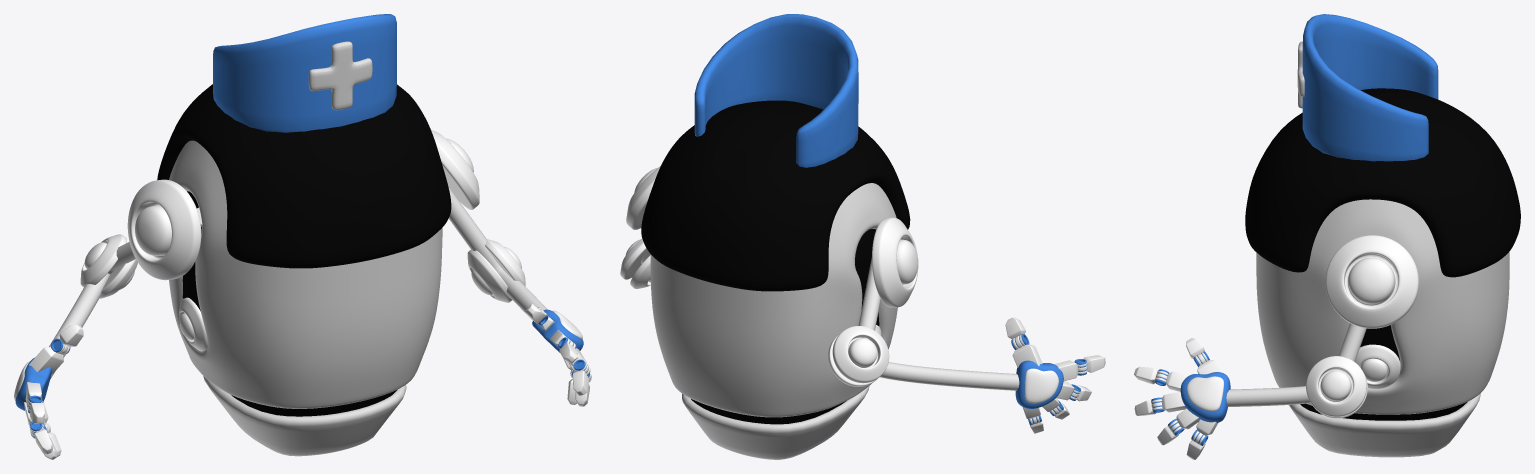
Rendered from medical-robot-3d-animated-icon-402314705219.glb.
3 views of the same model, side by side, from view 1: azimuth 30°, elevation 25°; view 2: azimuth 150°, elevation 25°; view 3: azimuth 270°, elevation 25° (orthographic). The views are drawn at different scales.
Visible parts, largest first — view 1: Cube.168, Cube.167, Cube.170, Cube.169, Cylinder.284, Plane.032, Cylinder.002, Cylinder.285, NurbsPath.001, Cylinder.001, Cube.166, NurbsPath.072 (+4 smaller); view 2: Cube.167, Cube.168, Cube.170, Cube.169, Cylinder.284, NurbsPath.072, Cylinder.285, Cube.166, Cylinder.002, Cube.210, Cylinder.001, Cube.209; view 3: Cube.168, Cube.167, Cube.170, Cylinder.001, Cube.169, Cylinder.002, NurbsPath.001, Cylinder.208, Cube.166, Cube.172, Cube.171.
Part boxes in pixels (<box>): Cube.168: <box>169,140,442,408</box>; Cube.167: <box>157,84,451,268</box>; Cube.170: <box>213,14,396,132</box>; Cube.169: <box>203,376,406,456</box>; Cylinder.284: <box>127,179,201,280</box>; Plane.032: <box>308,41,372,110</box>; Cylinder.002: <box>467,239,525,302</box>; Cylinder.285: <box>80,234,137,298</box>; NurbsPath.001: <box>448,186,547,320</box>; Cylinder.001: <box>431,130,479,209</box>; Cube.166: <box>182,191,396,416</box>; NurbsPath.072: <box>49,207,202,378</box>; Cube.167: <box>641,100,910,291</box>; Cube.168: <box>650,183,897,417</box>; Cube.170: <box>694,14,858,167</box>; Cube.169: <box>682,386,869,459</box>; Cylinder.284: <box>872,217,918,307</box>; NurbsPath.072: <box>858,257,1019,390</box>; Cylinder.285: <box>828,326,889,386</box>; Cube.166: <box>691,228,879,424</box>; Cylinder.002: <box>620,239,650,288</box>; Cube.210: <box>1024,368,1058,403</box>; Cylinder.001: <box>626,166,660,229</box>; Cube.209: <box>1015,360,1063,408</box>; Cube.168: <box>1256,199,1509,414</box>; Cube.167: <box>1245,88,1520,277</box>; Cube.170: <box>1302,14,1438,161</box>; Cylinder.001: <box>1325,235,1418,328</box>; Cube.169: <box>1289,393,1480,457</box>; Cylinder.002: <box>1306,356,1367,418</box>; NurbsPath.001: <box>1226,323,1366,406</box>; Cylinder.208: <box>1355,344,1400,388</box>; Cube.166: <box>1300,325,1467,420</box>; Cube.172: <box>1186,376,1223,411</box>; Cube.171: <box>1180,372,1230,422</box>.
Size of what is drawn, in the model's own units: 9.66 by 7.94 by 6.81.
